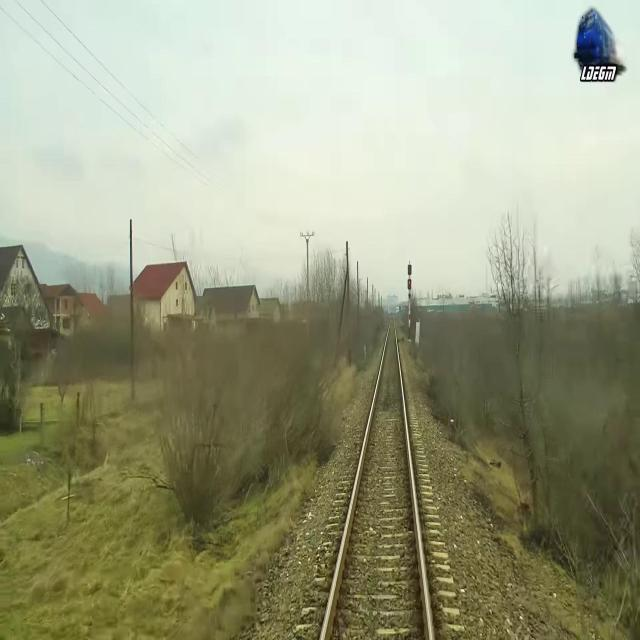rail-track: (324, 318, 427, 639)
